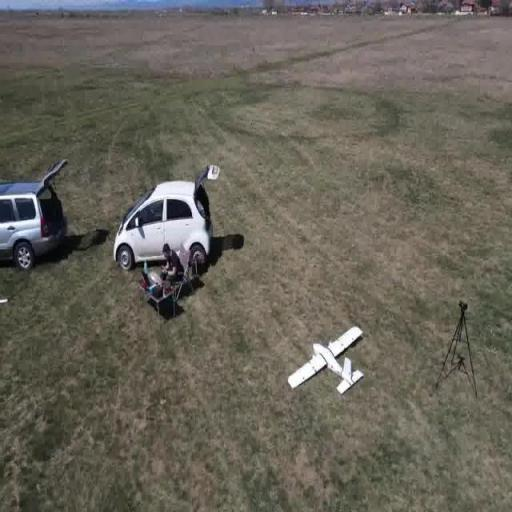uav: (286, 324, 368, 404)
